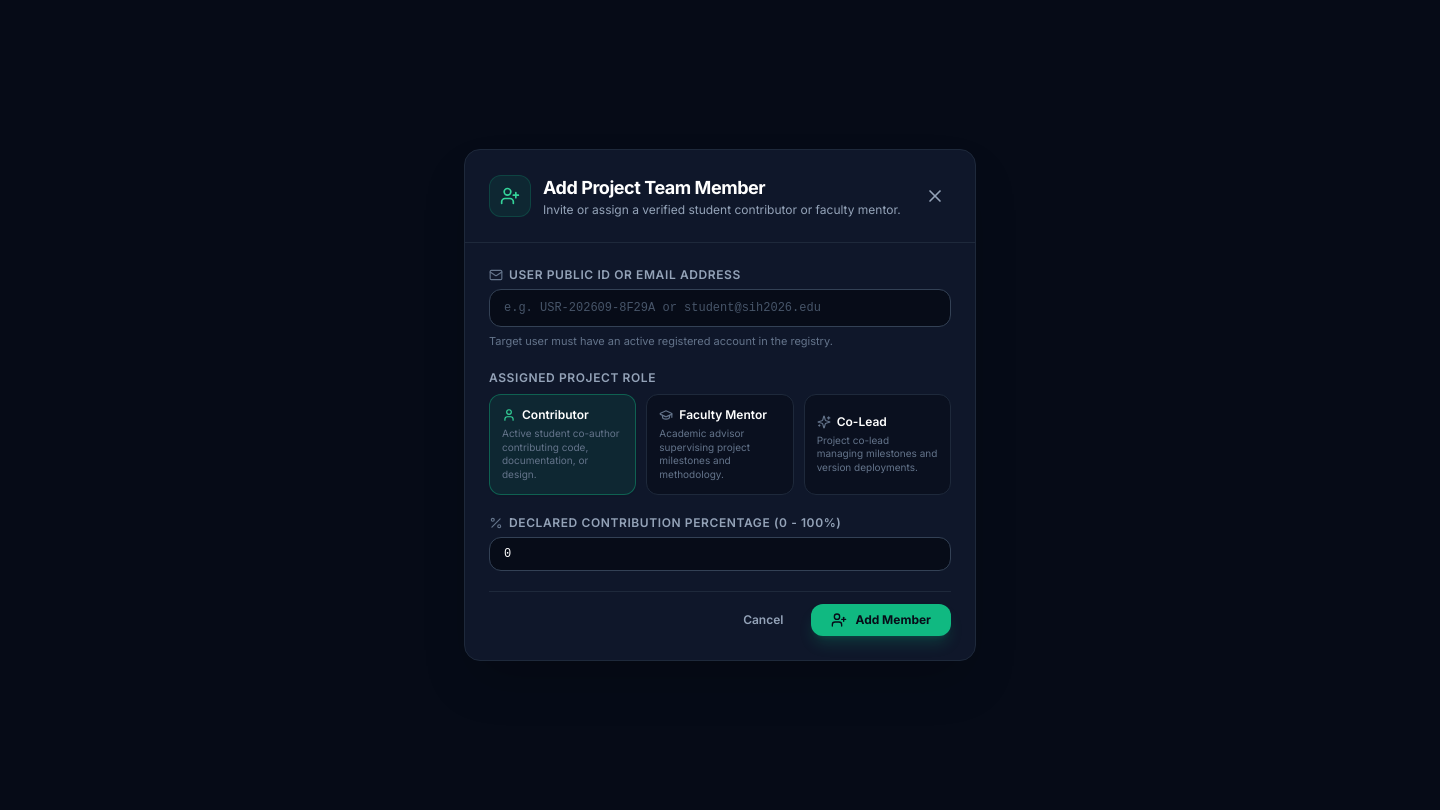
it: Frontend Project Team / Member Management Tests › opens AddMemberModal and enforces required identifier validation
The width and height of the screenshot is (1440, 810).
Check: the heading "Add Project Team Member" is shown, box [543,177,765,198]
# Click submit without entering identifier
Step 1. Click the button "Add Member" → [881, 620], box [812,604,951,636]
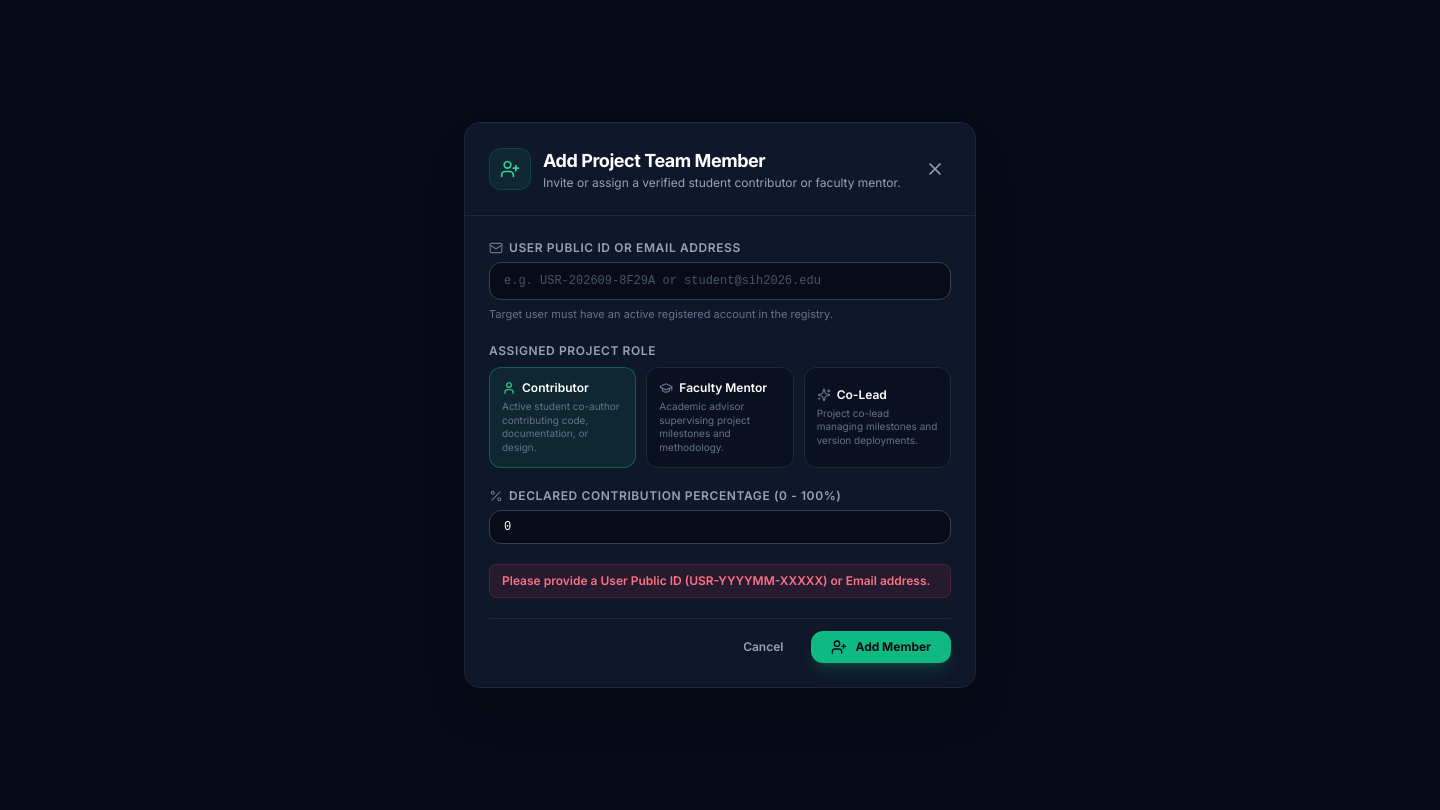
Check: the text "Please provide a User Public ID (USR-YYYYMM-XXXXX) or Email address" is shown, box [502,573,930,588]
